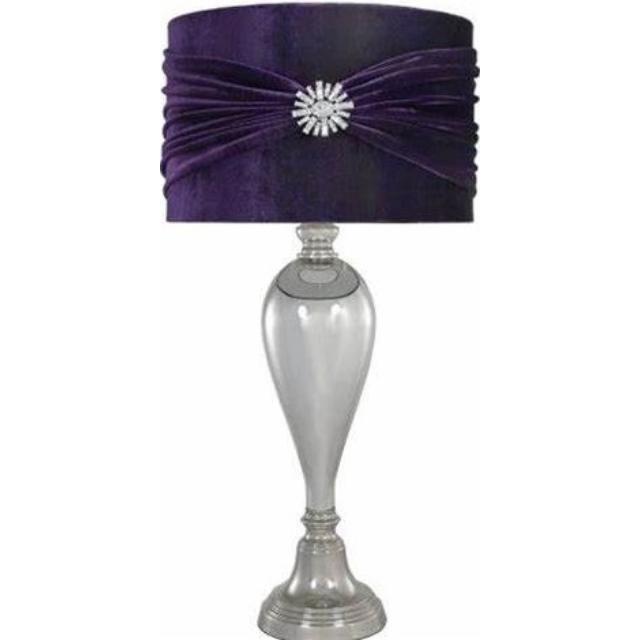lamp: (160, 0, 480, 640)
